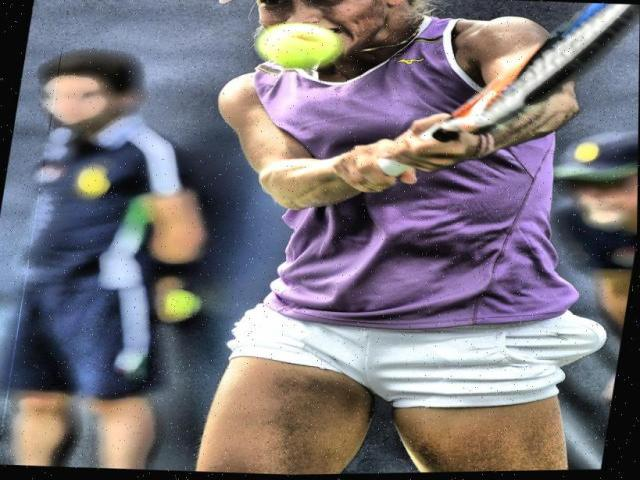tennis-ball: (250, 20, 351, 76), (165, 288, 201, 317)
